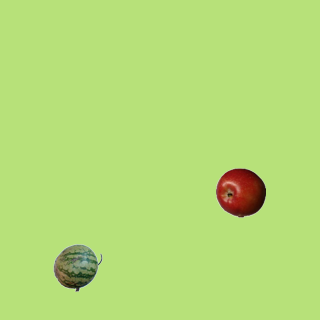Apple Braeburn: (215, 167, 265, 217)
Watermelon: (52, 242, 102, 292)
